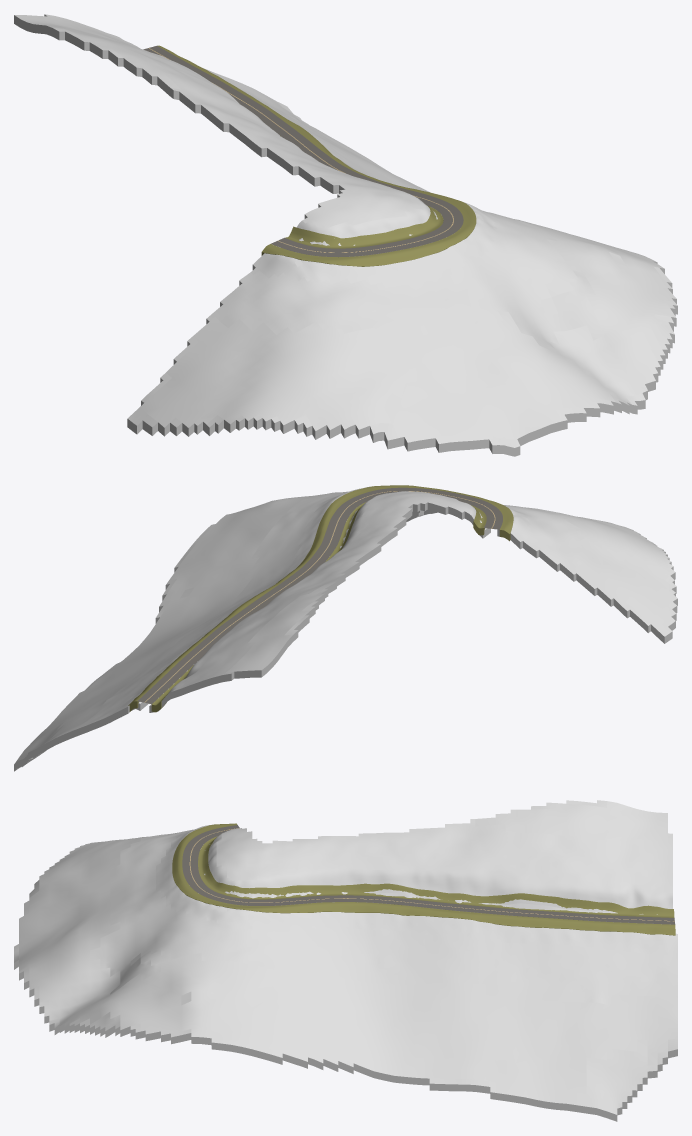
File: conz_188.glb
3 views of the same model, one above another, from view 1: azimuth 30°, elevation 25°; view 2: azimuth 150°, elevation 25°; view 3: azimuth 270°, elevation 25° (orthographic). The views are drawn at different scales.
Visible parts, largest first — view 1: terrain188, road188, verge188L, verge188R; view 2: terrain188, road188, verge188L, verge188R, paint_yellow188; view 3: terrain188, verge188L, verge188R, road188.
Part boxes in pixels (x1,y1,x2,y2): terrain188: (14, 14, 677, 456); road188: (143, 46, 463, 256); verge188L: (157, 45, 476, 266); verge188R: (280, 136, 443, 248); terrain188: (14, 486, 677, 771); road188: (137, 487, 502, 704); verge188L: (128, 485, 513, 711); verge188R: (151, 502, 486, 712); paint_yellow188: (144, 491, 495, 702); terrain188: (14, 800, 677, 1121); verge188L: (172, 823, 675, 935); verge188R: (198, 836, 674, 920); road188: (182, 825, 675, 924).
Size of the model in its own units: 194 by 84.97 by 262.
